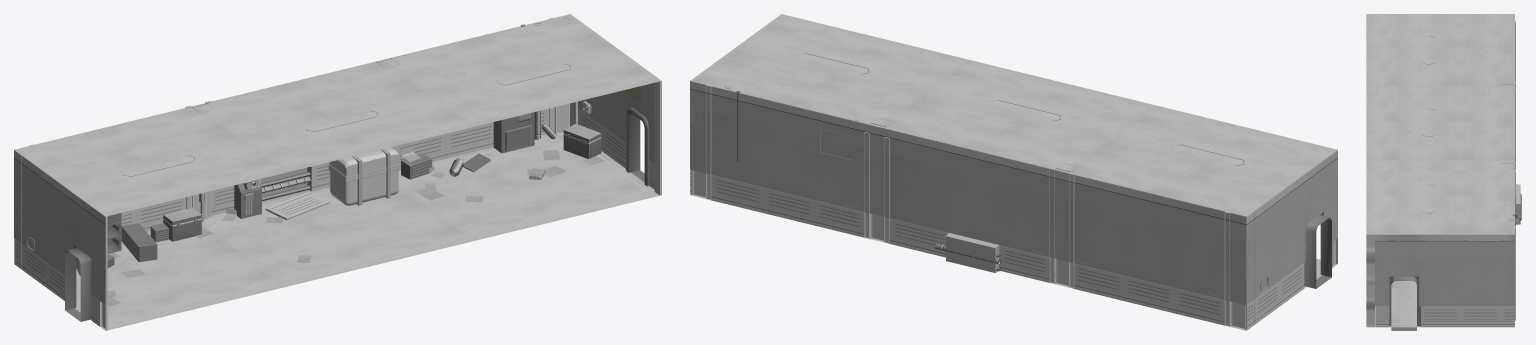
Rendered from MSH_QuestVault_L1_R3_optimized.fbx.
The picture shows the model from 3 angles, left to right: view 1: azimuth 30°, elevation 25°; view 2: azimuth 150°, elevation 25°; view 3: azimuth 270°, elevation 25°; orthographic projection. The views are drawn at different scales.
Visible parts, largest first — view 1: lightmap0, lightmap2, lightmap1, lightmap3; view 2: lightmap2, lightmap0, lightmap1; view 3: lightmap0, lightmap2, lightmap1.
Part boxes in pixels (bbox=[...]): lightmap0: bbox=[14, 14, 661, 330]; lightmap2: bbox=[14, 83, 654, 327]; lightmap1: bbox=[16, 15, 661, 330]; lightmap3: bbox=[234, 147, 400, 218]; lightmap2: bbox=[690, 81, 1337, 330]; lightmap0: bbox=[690, 14, 1337, 330]; lightmap1: bbox=[691, 14, 1337, 329]; lightmap0: bbox=[1366, 14, 1515, 327]; lightmap2: bbox=[1366, 184, 1520, 327]; lightmap1: bbox=[1366, 14, 1515, 330].
Bounding box in the file's own units: 30.91 × 5.99 × 8.89.
Materials: 3 (3 with a texture image).
